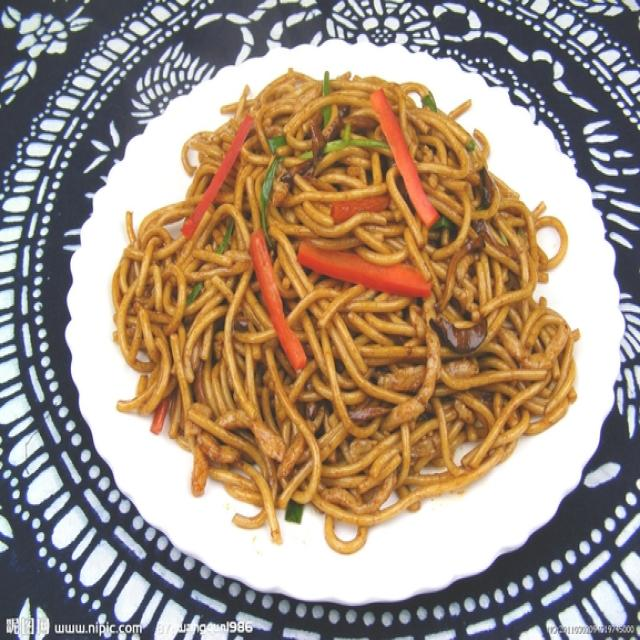面条主食: (86, 47, 602, 572)
